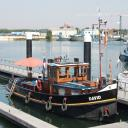tugboat: (6, 42, 120, 127)
